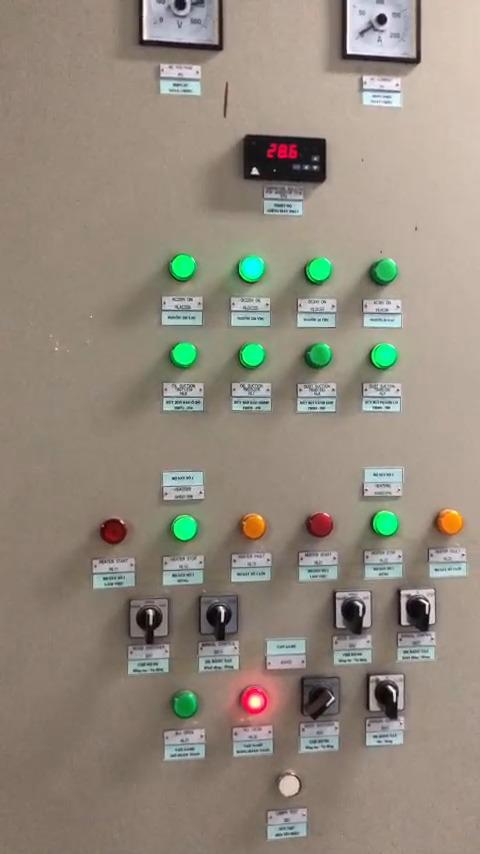led: (169, 686, 203, 719), (97, 515, 129, 545), (238, 685, 269, 715), (435, 507, 464, 538), (238, 254, 268, 283), (372, 256, 401, 286), (305, 509, 334, 539), (370, 341, 398, 371), (240, 511, 268, 541), (170, 254, 198, 283), (305, 341, 333, 370), (372, 509, 399, 539), (305, 258, 334, 284), (172, 513, 198, 541), (238, 344, 266, 369), (274, 772, 303, 796), (173, 341, 199, 366)
twist: (127, 595, 169, 640), (299, 674, 339, 719), (199, 593, 238, 636), (333, 589, 373, 630), (367, 674, 403, 716), (399, 586, 436, 626)
